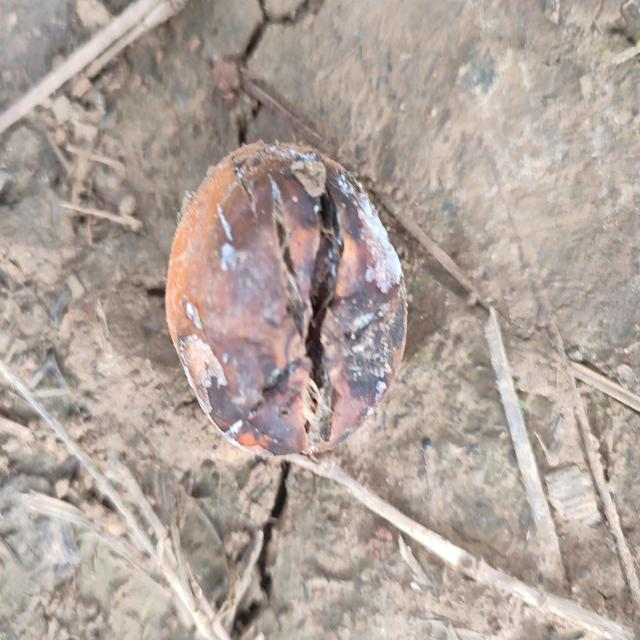damaged: (166, 141, 407, 455)
